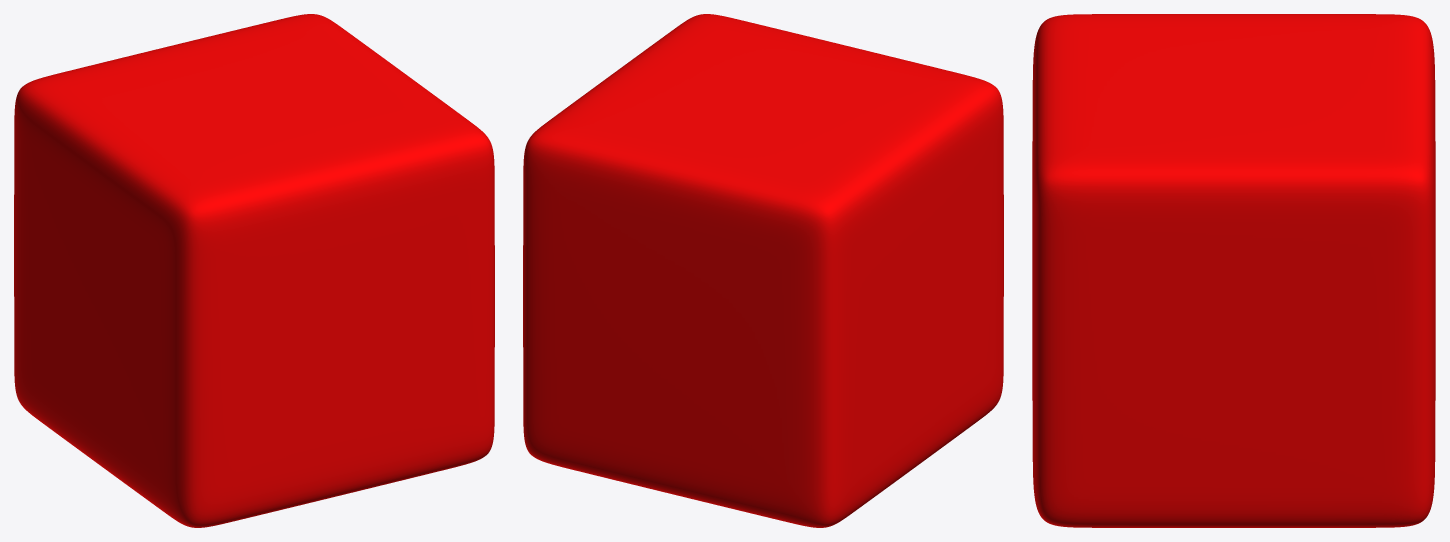
File: high_poly_smooth_cube.glb
The picture shows the model from 3 angles, left to right: view 1: azimuth 30°, elevation 25°; view 2: azimuth 150°, elevation 25°; view 3: azimuth 270°, elevation 25°; orthographic projection. The views are drawn at different scales.
Parts seen in each view (by area): view 1: Cube; view 2: Cube; view 3: Cube.
Boxes of the visible parts, x1=… form: Cube: x1=14, y1=14, x2=494, y2=527; Cube: x1=523, y1=14, x2=1003, y2=527; Cube: x1=1032, y1=14, x2=1435, y2=527.
Bounding box in the file's own units: 2 × 2 × 2.
